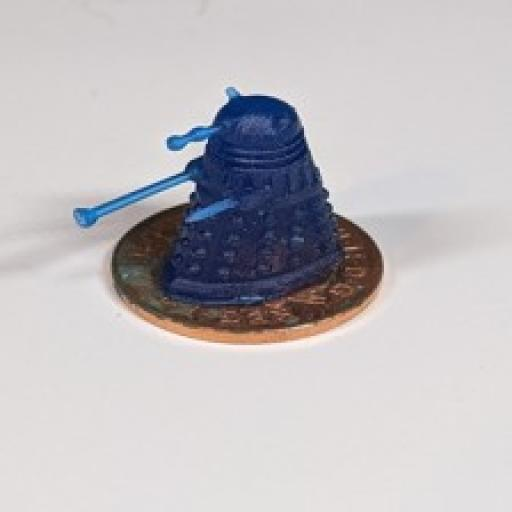dalek: (65, 83, 346, 299)
